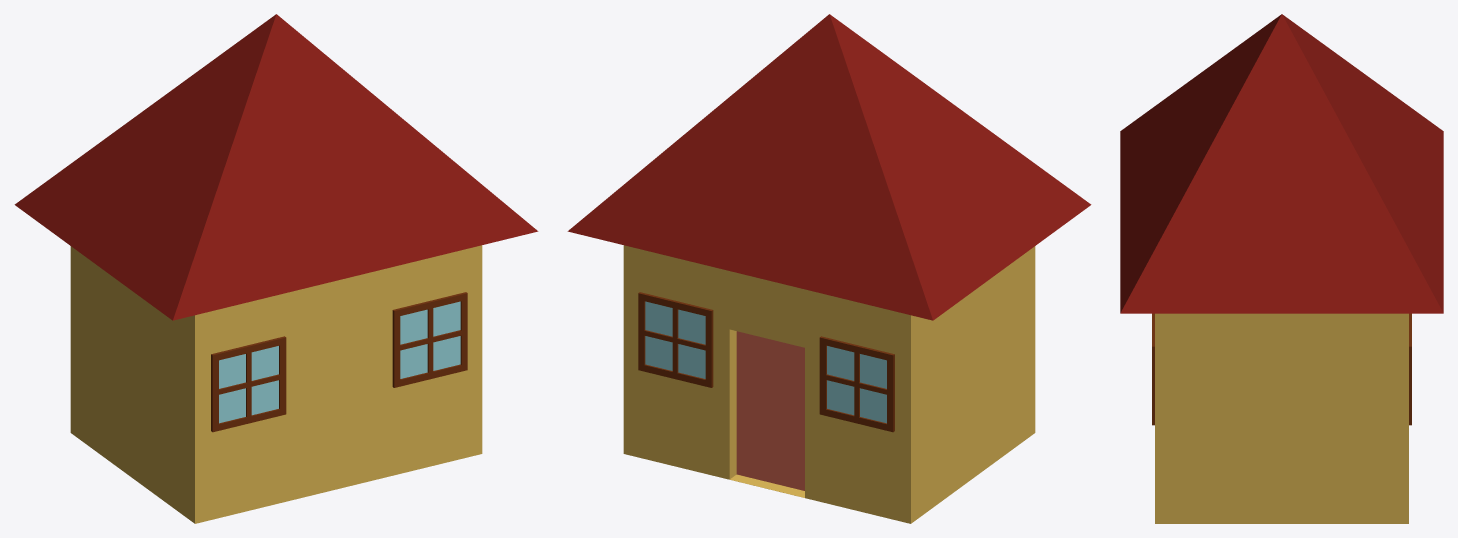
File: house_small.glb
3 renders of one model, left to right at view 1: azimuth 30°, elevation 25°; view 2: azimuth 150°, elevation 25°; view 3: azimuth 270°, elevation 25°, orthographic. The views are drawn at different scales.
Parts seen in each view (by area): view 1: Cube, Cube.002; view 2: Cube, Cube.002, Cube.001; view 3: Cube, Cube.002.
Part boxes in pixels (<box>): Cube: <box>14,14,538,523</box>; Cube.002: <box>211,292,467,432</box>; Cube: <box>567,14,1091,523</box>; Cube.002: <box>638,292,894,432</box>; Cube.001: <box>736,331,804,490</box>; Cube: <box>1120,14,1443,523</box>; Cube.002: <box>1152,313,1411,425</box>.
Size of the model in its own units: 5.1 by 5.72 by 3.82.
